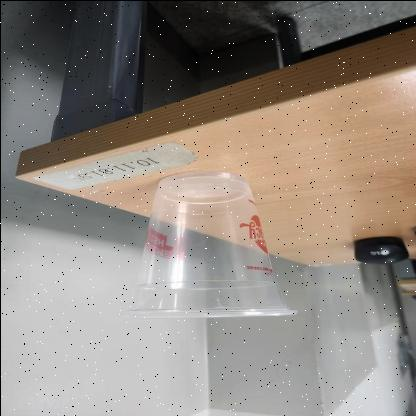Others: (115, 170, 299, 316)
